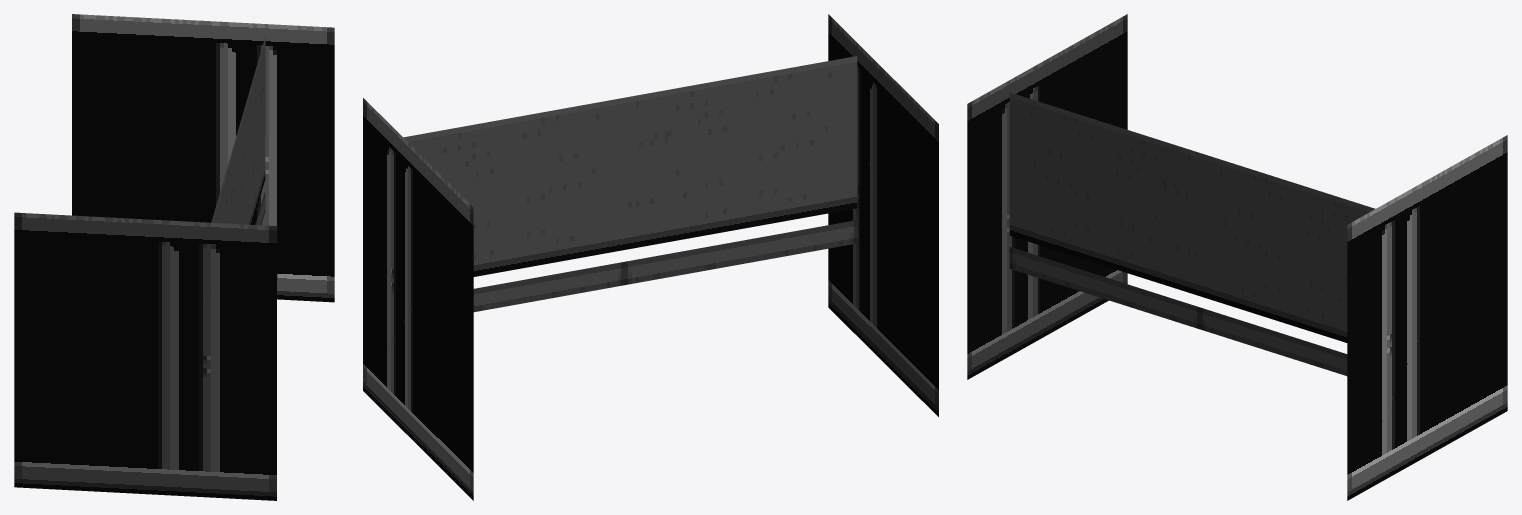
File: metal_table_frame.glb
3 renders of one model, left to right at view 1: azimuth 30°, elevation 25°; view 2: azimuth 150°, elevation 25°; view 3: azimuth 270°, elevation 25°, orthographic. The views are drawn at different scales.
Parts seen in each view (by area): view 1: Object; view 2: Object; view 3: Object.
Boxes of the visible parts, x1,y1,x2,y2 form: Object: [14, 14, 334, 500]; Object: [363, 14, 938, 500]; Object: [967, 14, 1507, 500].
Bounding box in the file's own units: 1.73 × 1.06 × 1.87.
Materials: 3 (3 with a texture image).
